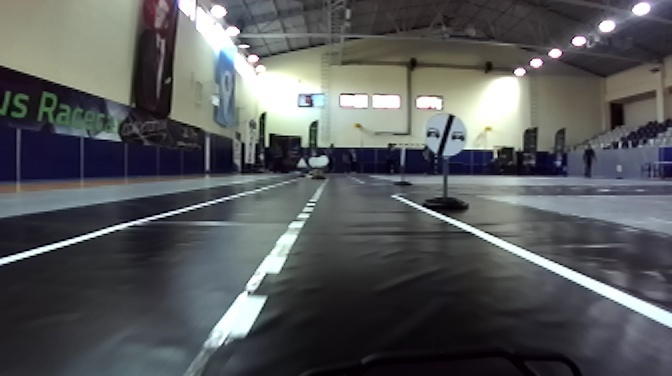sollama_serbest: (424, 112, 466, 157)
